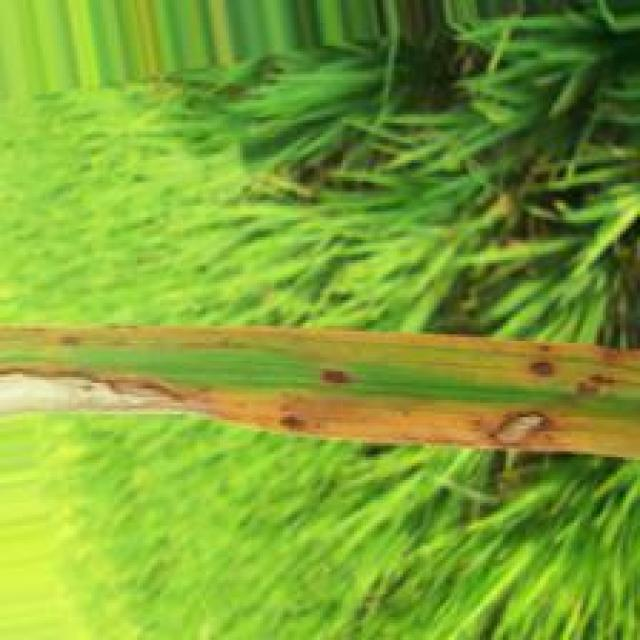Leaf_Blast: (0, 366, 234, 426), (483, 408, 561, 456)
